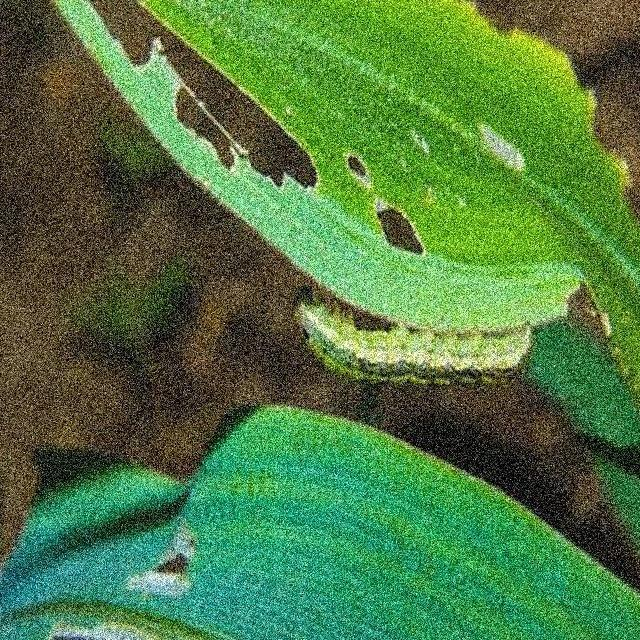gusano_cogollero: (276, 282, 540, 391)
